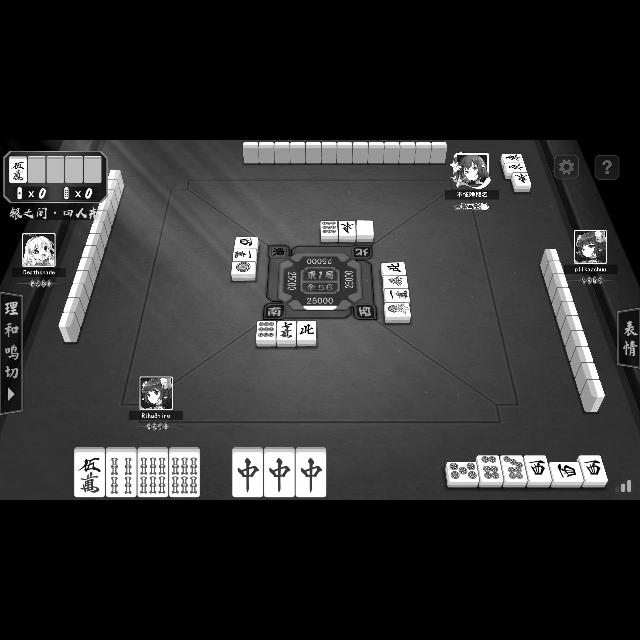1m: (384, 290, 410, 302), (233, 249, 257, 261)
1p: (232, 262, 256, 280)
1s: (385, 303, 411, 323)
4s: (106, 447, 138, 497)
5m: (74, 448, 106, 498), (10, 157, 26, 183)
5p: (446, 462, 478, 488)
6p: (478, 456, 502, 486)
6s: (138, 447, 168, 497), (170, 448, 200, 497)
7m: (278, 322, 296, 346)
7p: (500, 455, 528, 487)
9p: (256, 322, 276, 346), (320, 222, 338, 242)
chun: (232, 448, 264, 498), (264, 447, 294, 497), (296, 448, 326, 497)
haku: (356, 220, 374, 242)
hatsu: (382, 276, 408, 288)
pe: (298, 322, 316, 346), (380, 262, 406, 276)
sha: (580, 455, 608, 487), (550, 462, 582, 488), (526, 456, 550, 486), (234, 238, 258, 248)
tou: (511, 172, 531, 192), (338, 222, 356, 242), (503, 164, 527, 172), (501, 154, 524, 162)
